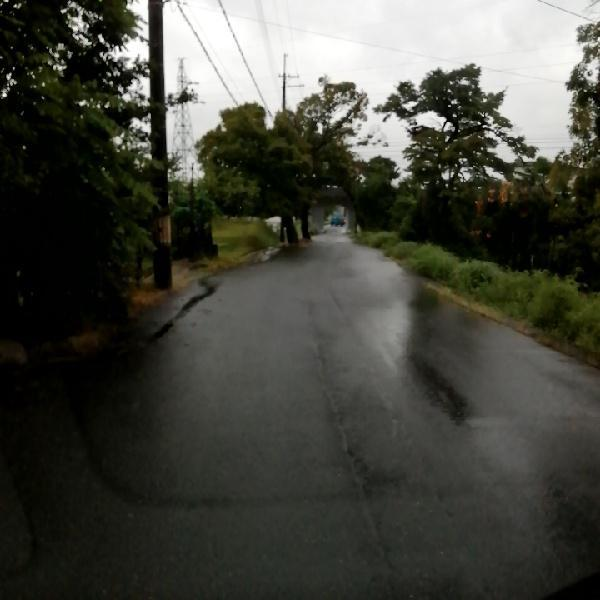D00: (325, 410, 387, 548)
